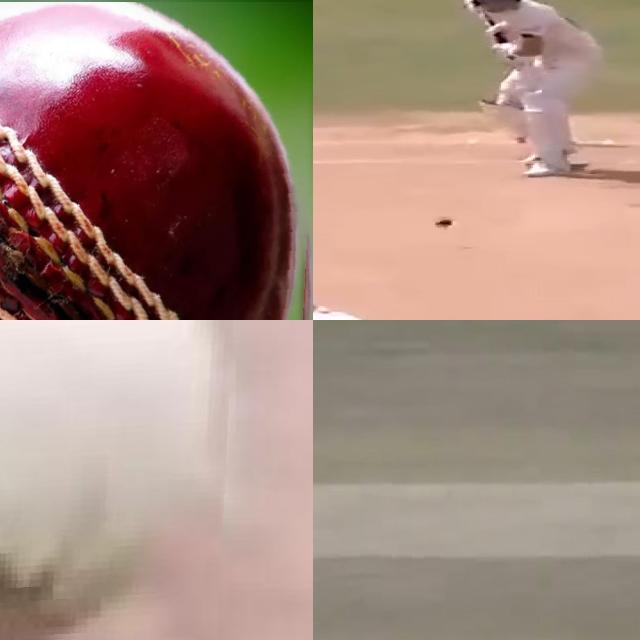Cricket ball: (0, 1, 313, 320), (0, 320, 243, 640), (431, 217, 457, 230)
